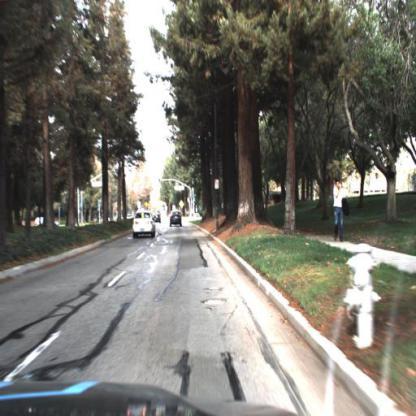car: (133, 209, 156, 241), (170, 208, 185, 228), (35, 218, 56, 227), (155, 211, 161, 224)
pedestrian: (333, 176, 348, 245), (333, 180, 347, 245)
